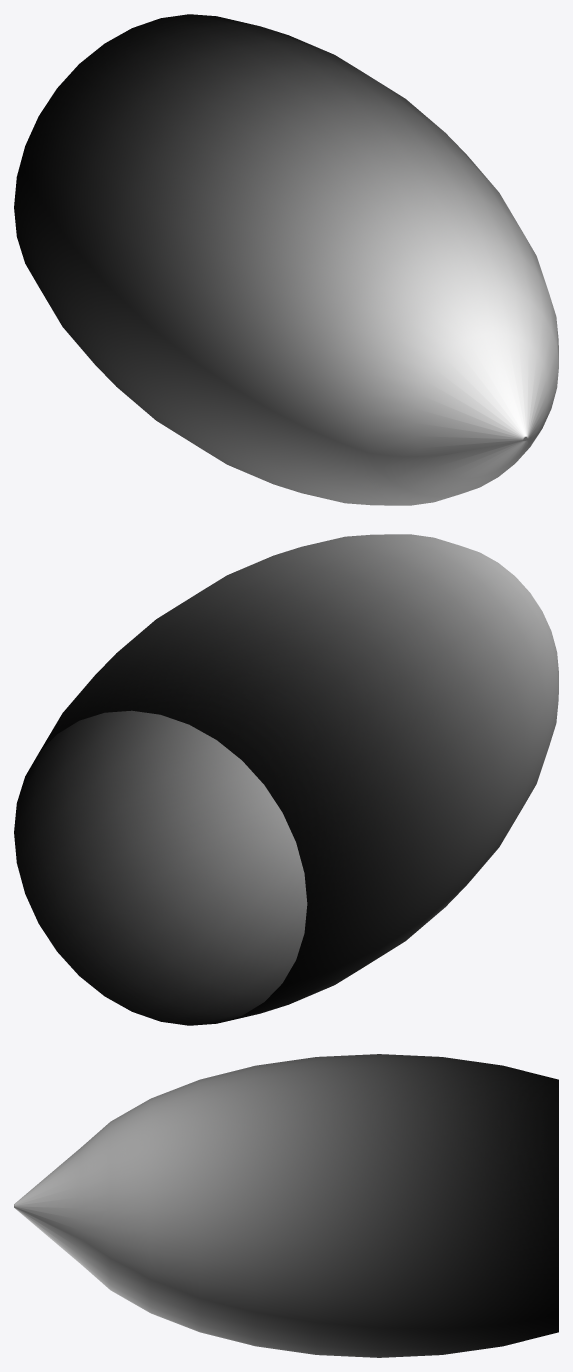
Rendered from MagicBullet.fbx.
3 views of the same model, one above another, from view 1: azimuth 30°, elevation 25°; view 2: azimuth 150°, elevation 25°; view 3: azimuth 270°, elevation 25° (orthographic). The views are drawn at different scales.
Visible parts, largest first — view 1: Sphere001; view 2: Sphere001; view 3: Sphere001.
Boxes of the visible parts, bbox=[...] form: Sphere001: bbox=[14, 14, 558, 505]; Sphere001: bbox=[14, 534, 558, 1025]; Sphere001: bbox=[14, 1054, 558, 1357].
Bounding box in the file's own units: 80 × 80 × 143.
